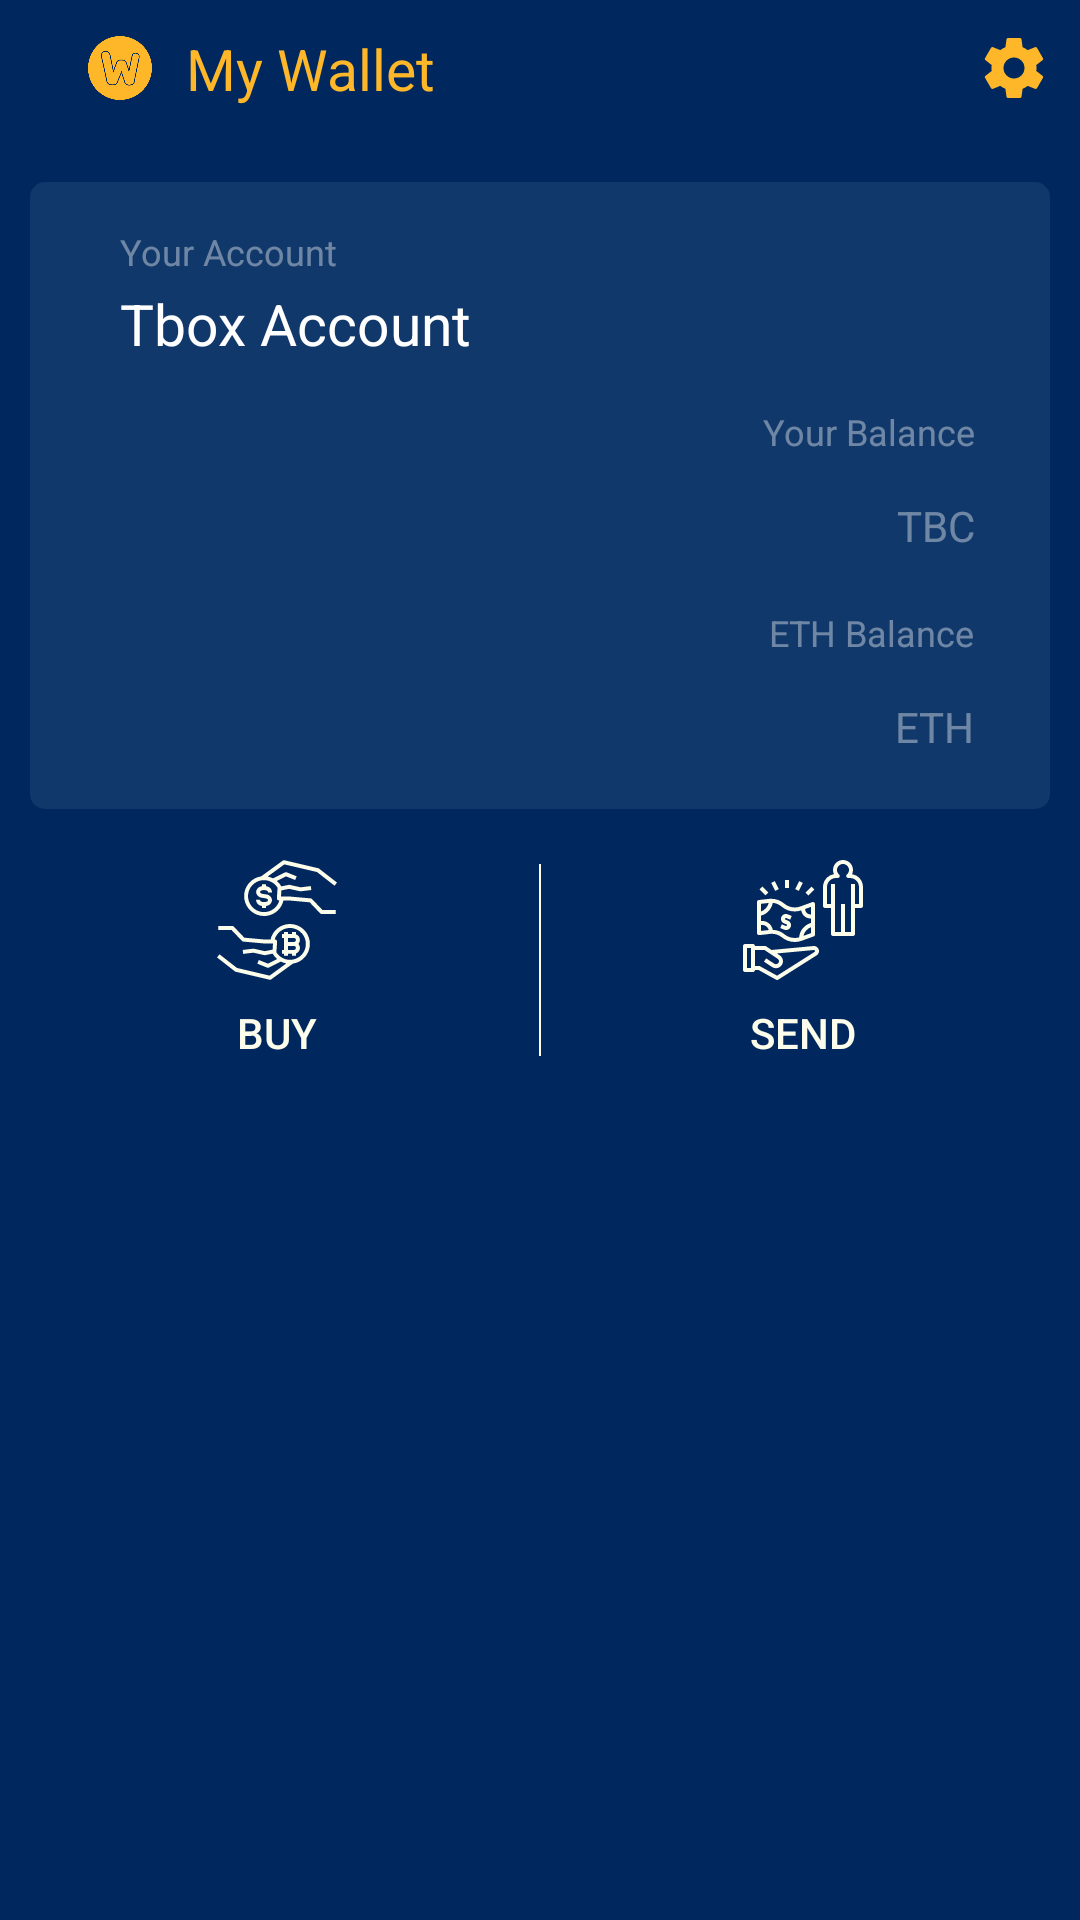

Icon click points for this 1080×1920 phone screenshot, format (x=x, y=y):
settings: (x=1013, y=68)
wallet fore: (x=120, y=68)
